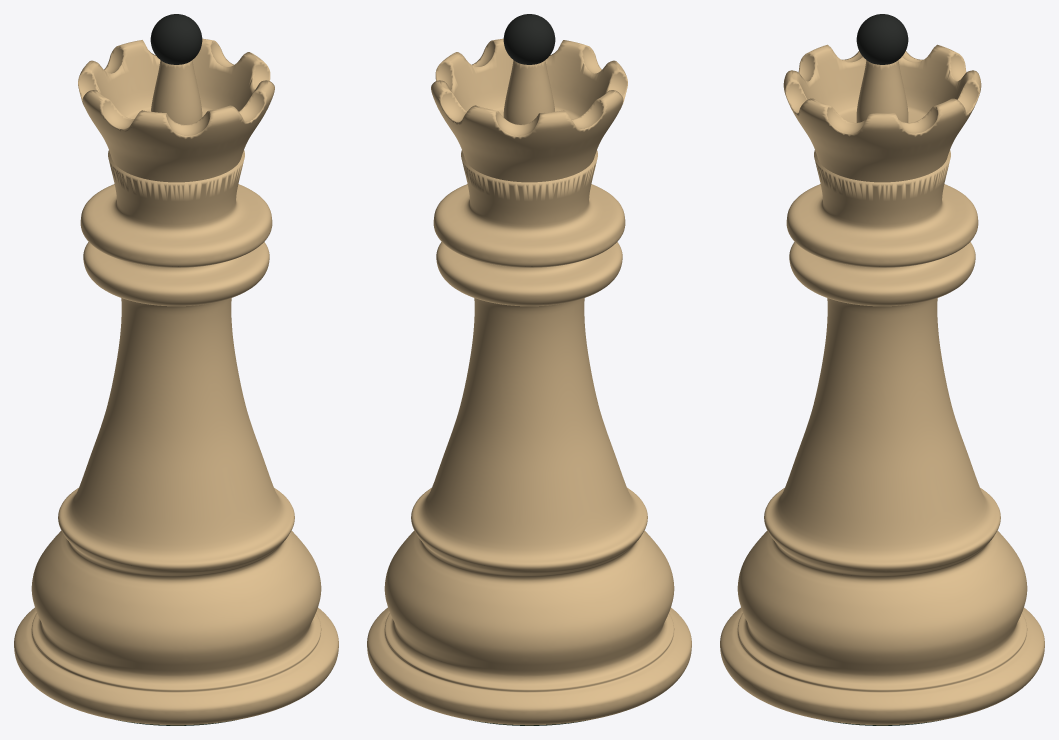
File: queen.glb
3 renders of one model, left to right at view 1: azimuth 30°, elevation 25°; view 2: azimuth 150°, elevation 25°; view 3: azimuth 270°, elevation 25°, orthographic.
Visible parts, largest first — view 1: Piece_Queen; view 2: Piece_Queen; view 3: Piece_Queen.
Part boxes in pixels (x1,y1,x2,y2): Piece_Queen: (14,14,338,725); Piece_Queen: (367,14,691,725); Piece_Queen: (720,14,1044,725).
Size of the model in its own units: 0.0384 by 0.085 by 0.0384.
